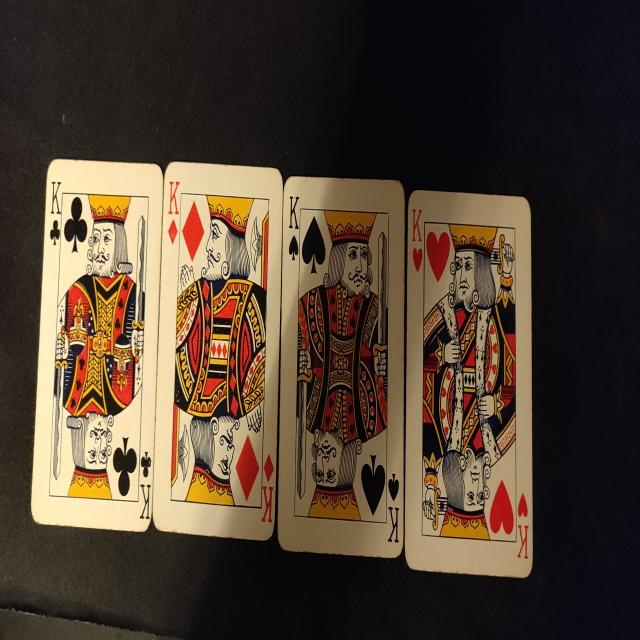Club: (113, 437, 137, 496), (64, 196, 88, 254), (50, 220, 60, 246), (141, 452, 151, 478)
Diamond: (236, 434, 260, 502), (182, 200, 205, 262), (264, 454, 274, 482), (168, 219, 178, 245)
Heart: (489, 480, 514, 534), (426, 232, 450, 282), (518, 493, 528, 518), (412, 248, 422, 272)
King: (262, 486, 274, 522), (388, 506, 399, 543), (140, 484, 151, 519), (168, 182, 180, 214), (50, 182, 61, 214), (518, 524, 528, 558), (289, 197, 299, 230), (412, 209, 422, 242)
Spade: (362, 454, 386, 516), (302, 216, 326, 274), (388, 474, 399, 502), (289, 235, 298, 261)
